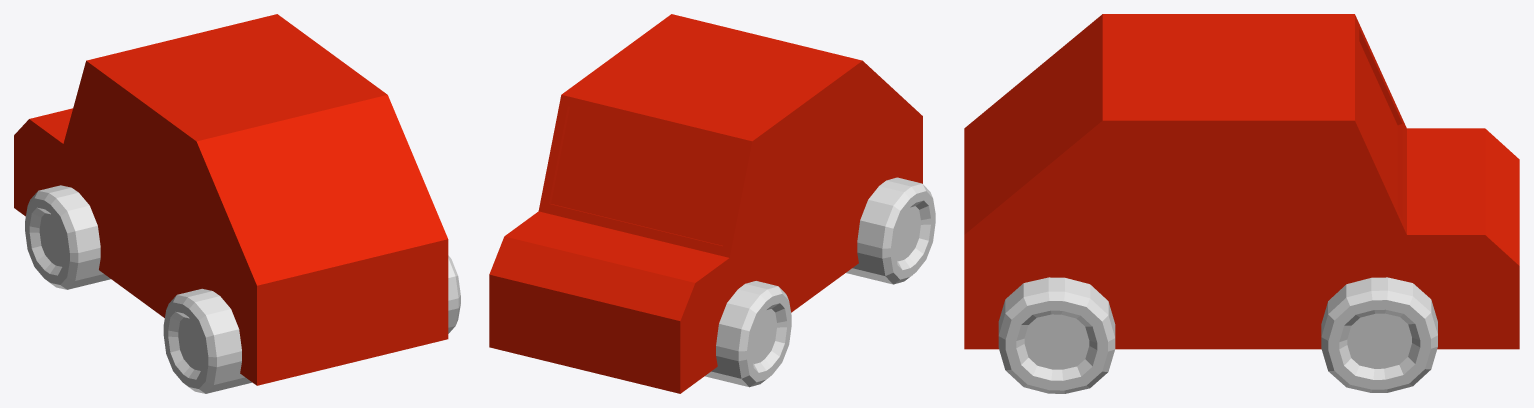
File: Car.fbx
3 renders of one model, left to right at view 1: azimuth 30°, elevation 25°; view 2: azimuth 150°, elevation 25°; view 3: azimuth 270°, elevation 25°, orthographic. The views are drawn at different scales.
Parts seen in each view (by area): view 1: Car, leftTire; view 2: Car, leftTire; view 3: Car, rightTire.
Part boxes in pixels (bbox=[...]): Car: bbox=[14, 14, 460, 393]; leftTire: bbox=[25, 185, 110, 289]; Car: bbox=[489, 14, 935, 393]; leftTire: bbox=[705, 281, 791, 387]; Car: bbox=[964, 14, 1519, 393]; rightTire: bbox=[1321, 277, 1437, 392].
Size of the model in its own units: 264 by 227 by 440.
